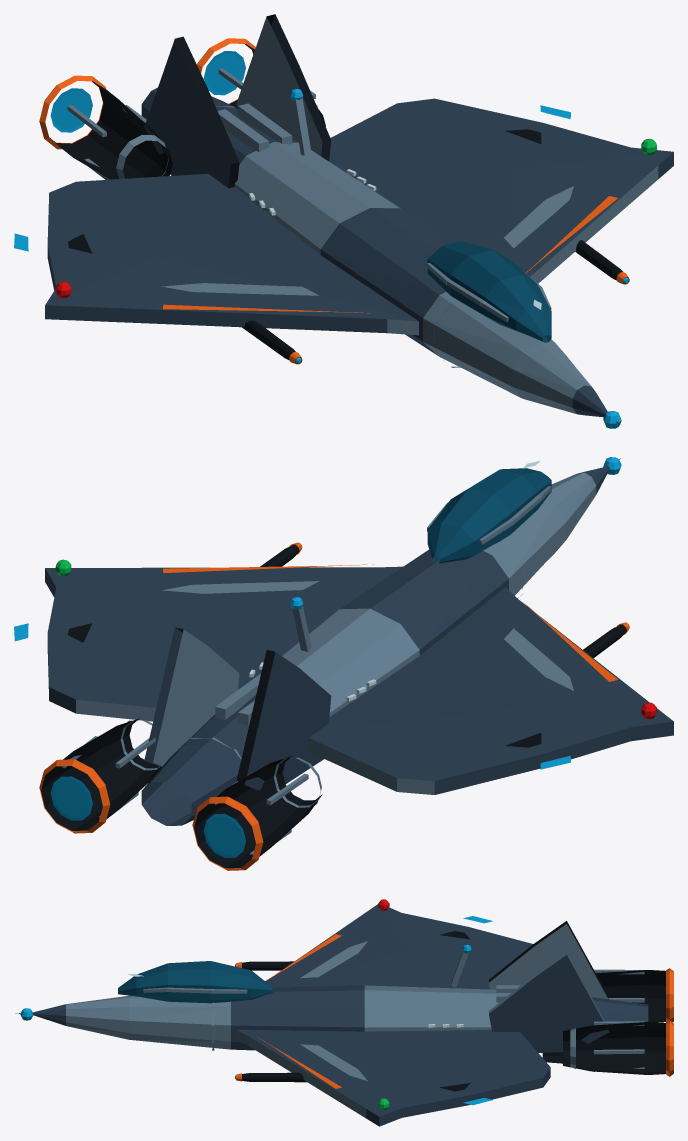
The model's file is Vesper9_Explorer.obj.
3 renders of one model, top to bottom at view 1: azimuth 30°, elevation 25°; view 2: azimuth 150°, elevation 25°; view 3: azimuth 270°, elevation 25°, orthographic. The views are drawn at different scales.
Visible parts, largest first — view 1: PortWing, StarboardWing, PrimaryFuselage, CockpitCanopy, PortDorsalFin, StarboardDorsalFin, PortWing_Edge, PortIonEngine_Casing, StarboardWing_Edge, DorsalRadiator, PortDorsalFin_Edge, PulseLance (+7 smaller); view 2: PortWing, PrimaryFuselage, StarboardWing, StarboardDorsalFin, CockpitCanopy, PortDorsalFin, StarboardIonEngine_Casing, PortWing_Edge, PortIonEngine_Casing, StarboardWing_Edge, StarboardWing_ServicePanel, PortDorsalFin_Edge (+8 smaller); view 3: PrimaryFuselage, StarboardWing, PortWing, StarboardDorsalFin, CockpitCanopy, StarboardIonEngine_Casing, StarboardWing_Edge, PortDorsalFin, PortIonEngine_Casing, PulseLance, StarboardWing_ServicePanel, PortWing_ServicePanel (+5 smaller).
Boxes of the visible parts, left/top/right/bottom form: PortWing: left=45, top=174, right=418, bottom=321; StarboardWing: left=329, top=98, right=673, bottom=276; PrimaryFuselage: left=141, top=87, right=607, bottom=417; CockpitCanopy: left=427, top=241, right=551, bottom=342; PortDorsalFin: left=144, top=39, right=230, bottom=187; StarboardDorsalFin: left=236, top=14, right=331, bottom=161; PortWing_Edge: left=45, top=245, right=418, bottom=335; PortIonEngine_Casing: left=49, top=81, right=172, bottom=179; StarboardWing_Edge: left=530, top=152, right=673, bottom=283; DorsalRadiator: left=217, top=103, right=292, bottom=152; PortDorsalFin_Edge: left=175, top=36, right=239, bottom=188; PulseLance: left=242, top=240, right=628, bottom=363; PortWing: left=309, top=587, right=673, bottom=780; PrimaryFuselage: left=141, top=466, right=609, bottom=825; StarboardWing: left=45, top=566, right=402, bottom=707; StarboardDorsalFin: left=144, top=627, right=239, bottom=766; CockpitCanopy: left=427, top=468, right=551, bottom=563; PortDorsalFin: left=245, top=652, right=331, bottom=790; StarboardIonEngine_Casing: left=41, top=718, right=161, bottom=830; PortWing_Edge: left=309, top=721, right=673, bottom=794; PortIonEngine_Casing: left=194, top=756, right=322, bottom=868; StarboardWing_Edge: left=45, top=568, right=156, bottom=721; StarboardWing_ServicePanel: left=162, top=581, right=319, bottom=593; PortDorsalFin_Edge: left=236, top=650, right=275, bottom=789; PrimaryFuselage: left=32, top=985, right=648, bottom=1050; StarboardWing: left=236, top=1029, right=550, bottom=1116; PortWing: left=265, top=904, right=532, bottom=989; StarboardDorsalFin: left=489, top=952, right=608, bottom=1052; CockpitCanopy: left=118, top=961, right=272, bottom=1003; StarboardIonEngine_Casing: left=563, top=1022, right=665, bottom=1074; StarboardWing_Edge: left=236, top=1030, right=550, bottom=1126; PortDorsalFin: left=489, top=924, right=607, bottom=999; PortIonEngine_Casing: left=596, top=970, right=665, bottom=1022; PulseLance: left=242, top=961, right=306, bottom=1082; StarboardWing_ServicePanel: left=300, top=1044, right=367, bottom=1081; PortWing_ServicePanel: left=300, top=941, right=367, bottom=978.
Size of the model in its own units: 13.64 by 3.39 by 17.79.
